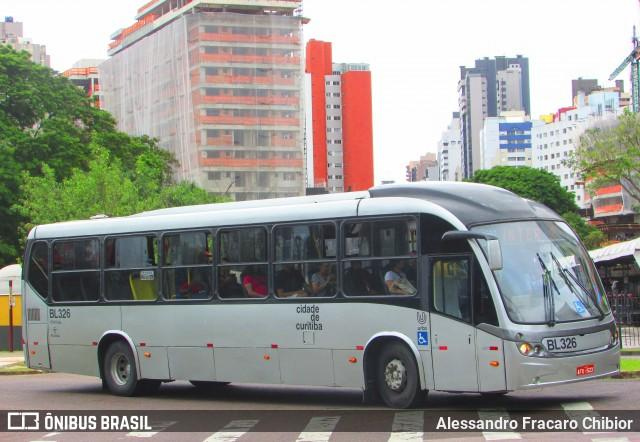INTER2: (495, 222, 560, 246)
